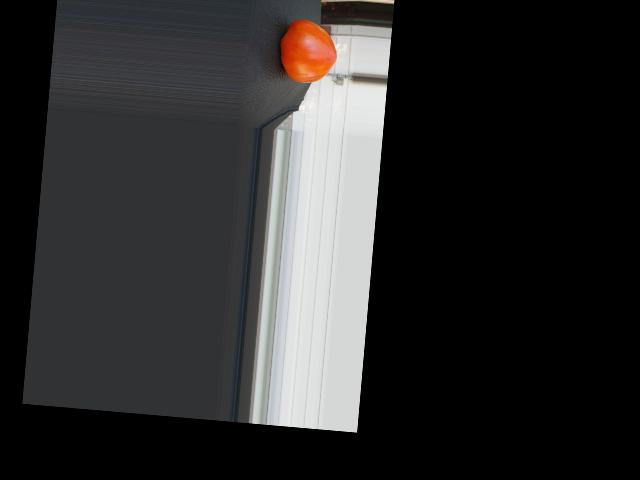tomato: (277, 18, 339, 85)
